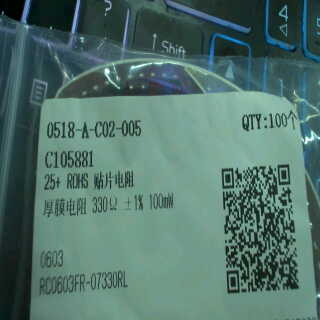330R: (89, 191, 122, 214)
